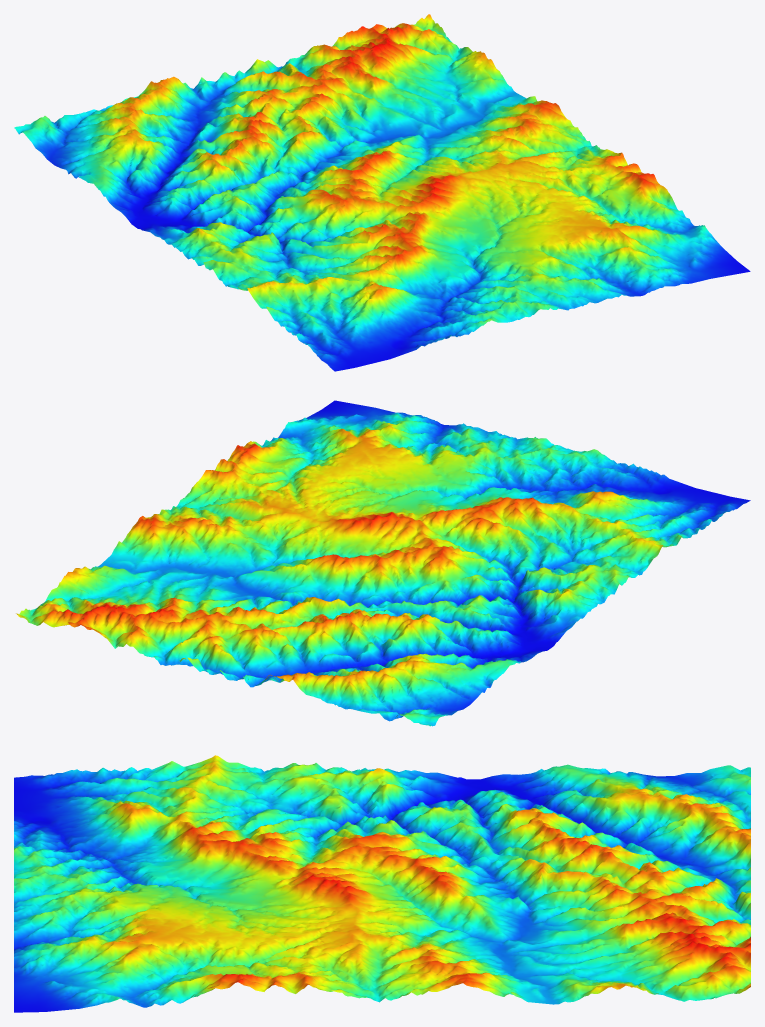
The picture shows the model from 3 angles, top to bottom: view 1: azimuth 30°, elevation 25°; view 2: azimuth 150°, elevation 25°; view 3: azimuth 270°, elevation 25°; orthographic projection. The views are drawn at different scales.
Bounding box in the file's own units: 4803 × 330 × 6413.
Materials: 1 (1 with a texture image).
